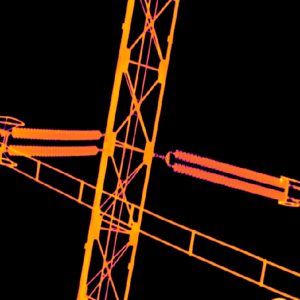insulator: (172, 146, 286, 202), (6, 126, 103, 156)
